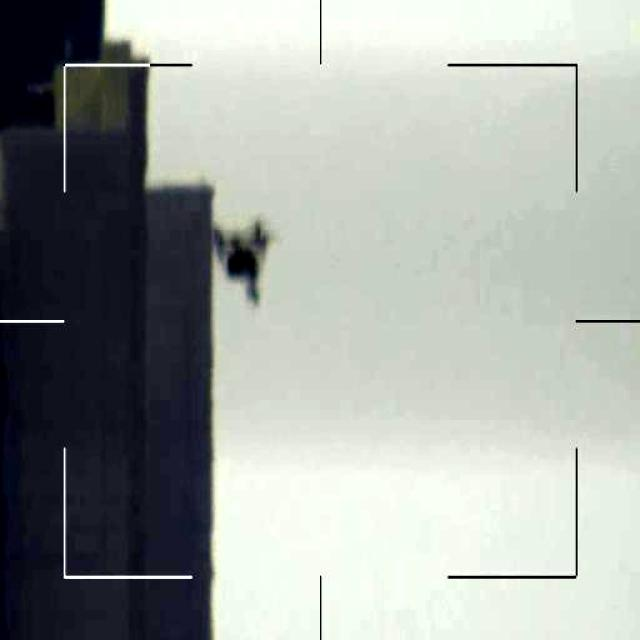bird: (210, 210, 274, 308)
